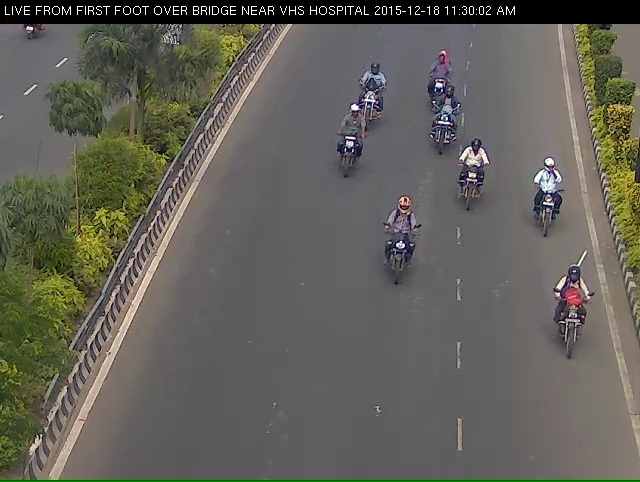Person: (548, 273, 598, 385), (378, 216, 420, 310), (532, 162, 567, 253), (349, 68, 387, 138), (454, 154, 487, 232), (332, 119, 364, 194), (424, 105, 457, 169), (426, 53, 455, 112)
